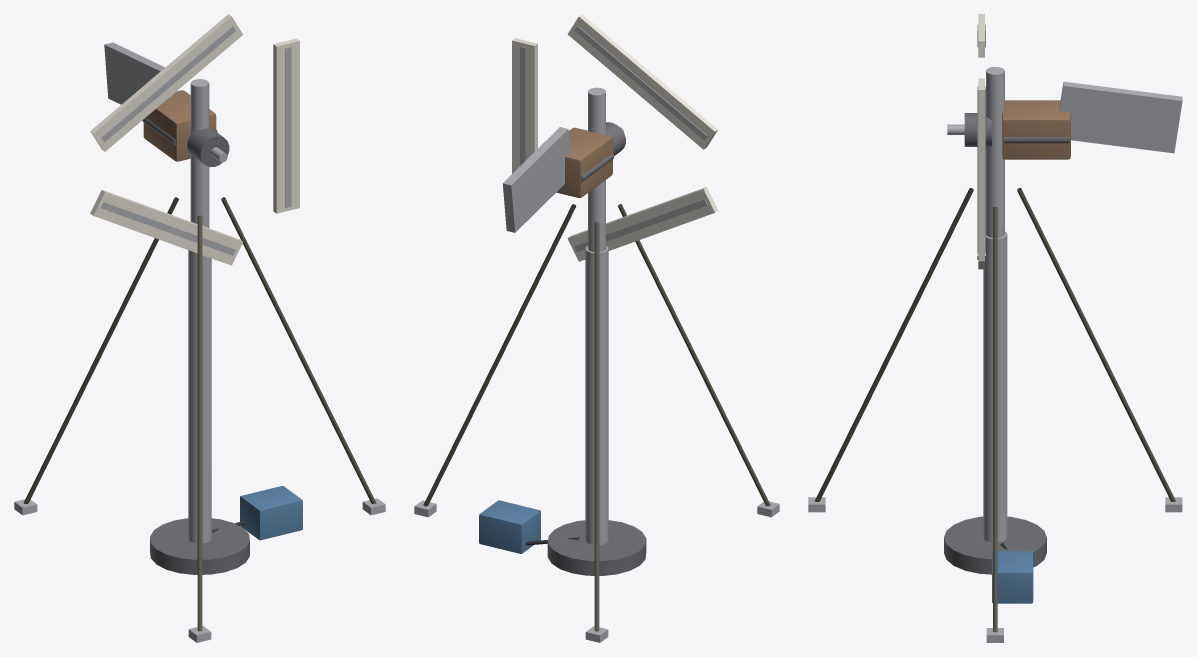
The model's file is DD_wind_generator.fbx.
The picture shows the model from 3 angles, left to right: view 1: azimuth 30°, elevation 25°; view 2: azimuth 150°, elevation 25°; view 3: azimuth 270°, elevation 25°; orthographic projection. The views are drawn at different scales.
Visible parts, largest first — view 1: DD_wind_generator; view 2: DD_wind_generator; view 3: DD_wind_generator.
Boxes of the visible parts, box(x1,y1,x2,y2) form: DD_wind_generator: box(14, 14, 385, 642); DD_wind_generator: box(414, 14, 779, 642); DD_wind_generator: box(808, 14, 1182, 642).
Bounding box in the file's own units: 2.04 × 3.54 × 2.18.
